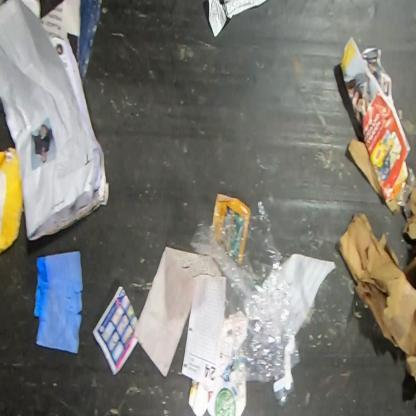cardboard: (337, 180, 416, 379), (347, 138, 381, 198)
soft_plastic: (188, 200, 305, 404)
